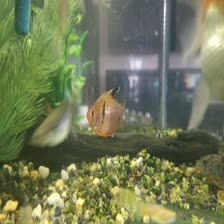Kiros: (192, 147, 223, 188)
Transparente: (82, 85, 131, 140)
